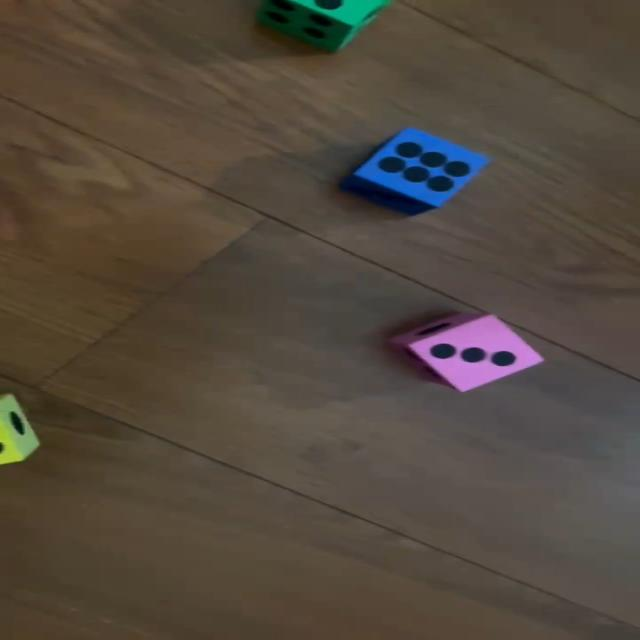blue_block: (344, 127, 494, 215)
